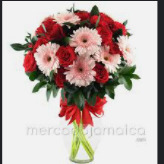RedRose: (103, 12, 129, 32), (92, 62, 111, 85), (94, 24, 115, 44), (23, 52, 38, 74), (56, 47, 74, 64), (46, 25, 65, 41), (53, 68, 68, 83), (77, 10, 92, 21), (32, 25, 45, 36), (31, 39, 43, 47)
